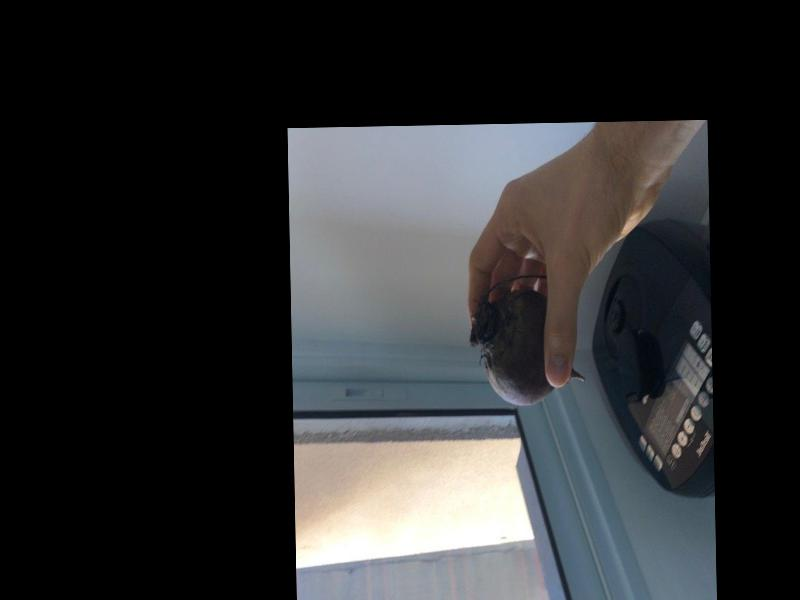Beet: (468, 275, 584, 406)
